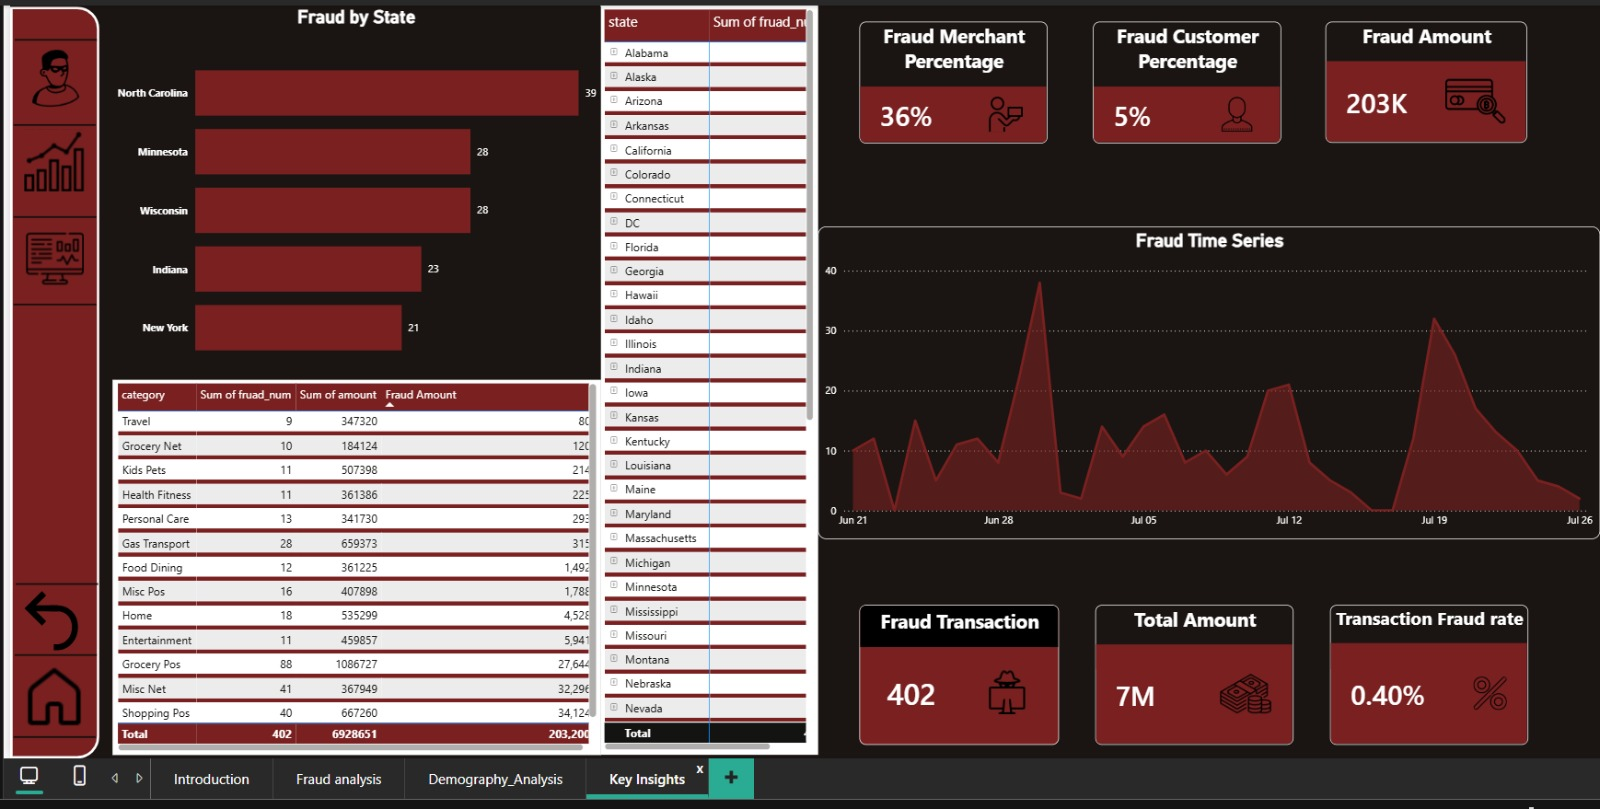

Layout of this report page (visuals, bound fields, positions):
{"tool":"powerbi","page":{"name":"Key Insights","canvas":[1900,900],"ordinal":3},"visuals":[{"type":"shape","box":[0,1.7,106.7,898.3],"z":0},{"type":"actionButton","box":[15.5,264.1,91.8,77],"z":1000},{"type":"actionButton","box":[8.6,145,88.5,82],"z":2000},{"type":"actionButton","box":[6.9,776.7,91.8,100],"z":3000},{"type":"actionButton","box":[8.6,41.4,94.7,91.1],"z":4000},{"type":"shape","box":[3.5,226.1,99,51.8],"z":5000},{"type":"shape","box":[3.5,317.6,99,79.4],"z":6000},{"type":"shape","box":[5.2,15.5,98,51.8],"z":7000},{"type":"shape","box":[3.5,117.4,98,51.8],"z":8000},{"type":"shape","box":[5.2,737,98,78.6],"z":9000},{"type":"shape","box":[3.5,847.5,98,51.8],"z":10000},{"type":"lineChart","title":"Fraud Time Series","fields":{"Category":["fact_transactions_1_.transaction_datetime.Variation.Date Hierarchy.Year","fact_transactions_1_.transaction_datetime.Variation.Date Hierarchy.Month","fact_transactions_1_.transaction_datetime.Variation.Date Hierarchy.Day"],"Y":["Sum(fact_transactions_1_.fruad_num)"]},"box":[965.3,263.3,934.7,373.5],"z":11000},{"type":"tableEx","fields":{"Values":["dim_category_1_.category","Sum(fact_transactions_1_.fruad_num)","Sum(fact_transactions_1_.amount)","select","fact_transactions_1_.Fraud Amount"]},"box":[122.4,446.9,583,449.1],"z":12000},{"type":"cardVisual","title":"Fraud Amount","fields":{"Data":["fact_transactions_1_.Fraud Amount"]},"box":[1571.5,19.7,240.8,144.9],"z":13000},{"type":"cardVisual","title":"Fraud Customer Percentage","fields":{"Data":["dim_customer_1_.Fraud Cusromer Percentage"]},"box":[1293.2,19.5,224.5,145.3],"z":14000},{"type":"cardVisual","title":"Fraud Merchant Percentage","fields":{"Data":["fact_transactions_1_.merchant fruad %"]},"box":[1014.9,19.5,224.5,145.3],"z":15000},{"type":"cardVisual","title":"Total Amount","fields":{"Data":["Sum(fact_transactions_1_.amount)"]},"box":[1296.1,715.7,236.7,167.3],"z":16000},{"type":"cardVisual","title":"Fraud Transaction","fields":{"Data":["Sum(fact_transactions_1_.fruad_num)"]},"box":[1014.9,715.7,238.2,167.4],"z":17000},{"type":"cardVisual","title":"Transaction Fraud rate","fields":{"Data":["dim_category_1_.Fraud Rate"]},"box":[1575.9,715.7,236.5,167.4],"z":18000},{"type":"pivotTable","fields":{"Rows":["dim_customer_1_.state Hierarchy.state","dim_customer_1_.state Hierarchy.city"],"Values":["Sum(fact_transactions_1_.fruad_num)"]},"box":[705.3,0,259.6,894.9],"z":19000},{"type":"clusteredBarChart","title":"Fraud by State","fields":{"Category":["dim_customer_1_.state Hierarchy.state","dim_customer_1_.state Hierarchy.city"],"Y":["Sum(fact_transactions_1_.fruad_num)"]},"box":[123,1.8,582.8,445.6],"z":20000},{"type":"actionButton","box":[0,693.3,99.8,83.8],"z":21000},{"type":"shape","box":[7.1,664.8,98,51.8],"z":22000}]}

Visuals, with their boxes in screenshot pixels (x1, y1, x2, y2):
shape: BBox(8, 6, 97, 752)
actionButton: BBox(21, 223, 97, 287)
actionButton: BBox(15, 125, 89, 193)
actionButton: BBox(14, 649, 90, 732)
actionButton: BBox(15, 39, 94, 114)
shape: BBox(11, 192, 93, 235)
shape: BBox(11, 268, 93, 334)
shape: BBox(13, 17, 94, 60)
shape: BBox(11, 102, 93, 145)
shape: BBox(13, 616, 94, 681)
shape: BBox(11, 708, 93, 751)
"Fraud Time Series" lineChart: BBox(810, 223, 1586, 533)
tableEx - dim_category_1_.category x Sum(fact_transactions_1_.fruad_num): BBox(110, 375, 594, 748)
"Fraud Amount" cardVisual: BBox(1313, 21, 1513, 141)
"Fraud Customer Percentage" cardVisual: BBox(1082, 20, 1269, 141)
"Fraud Merchant Percentage" cardVisual: BBox(851, 20, 1038, 141)
"Total Amount" cardVisual: BBox(1085, 599, 1281, 737)
"Fraud Transaction" cardVisual: BBox(851, 599, 1049, 738)
"Transaction Fraud rate" cardVisual: BBox(1317, 599, 1513, 738)
pivotTable - dim_customer_1_.state Hierarchy.state x dim_customer_1_.state Hierarchy.city: BBox(594, 4, 810, 747)
"Fraud by State" clusteredBarChart: BBox(110, 6, 594, 376)
actionButton: BBox(8, 580, 91, 650)
shape: BBox(14, 556, 96, 599)
